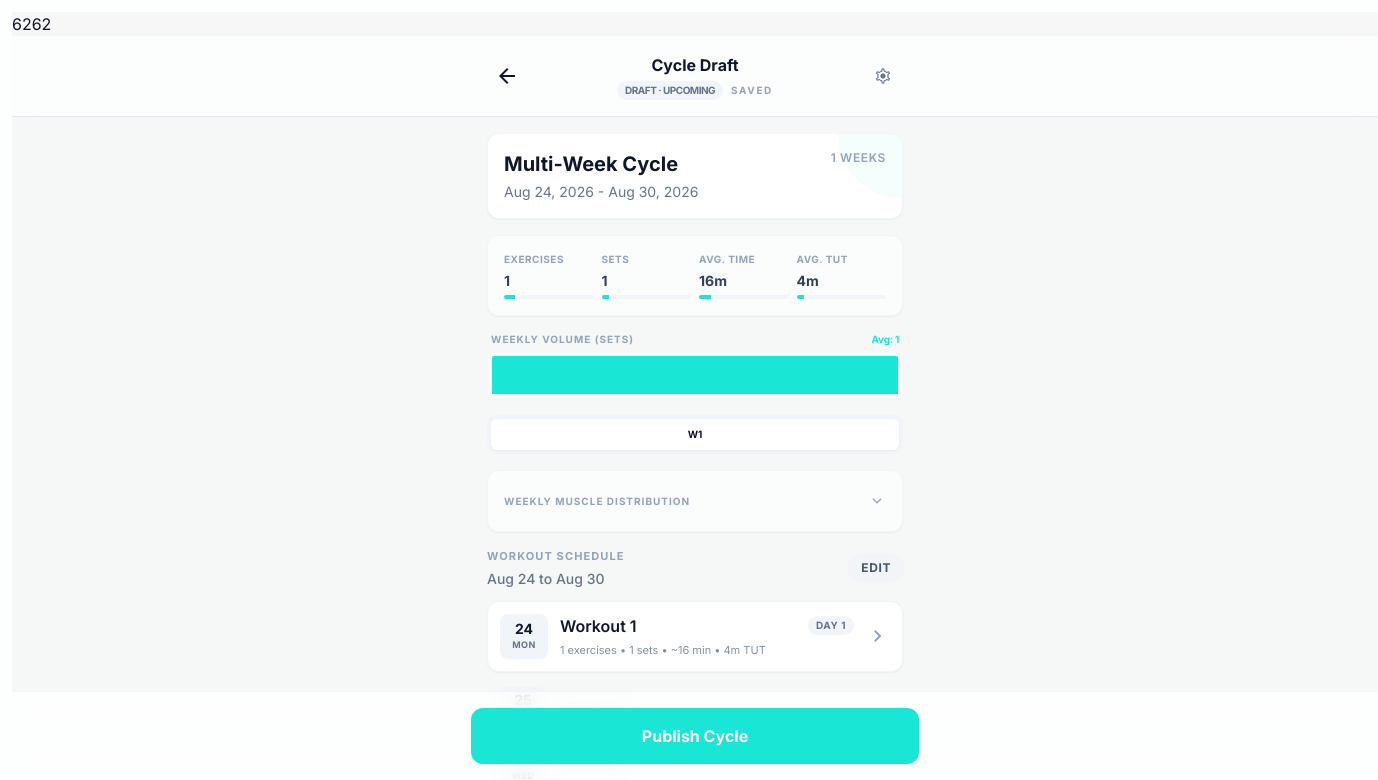
Test: ManualBuilderMulti workout terminal-action barrier › DRAFT_EXPIRED recovery during Publish preparation aborts the current Publish
Click the button "Publish Cycle": [695, 736] box [471,708,919,764]
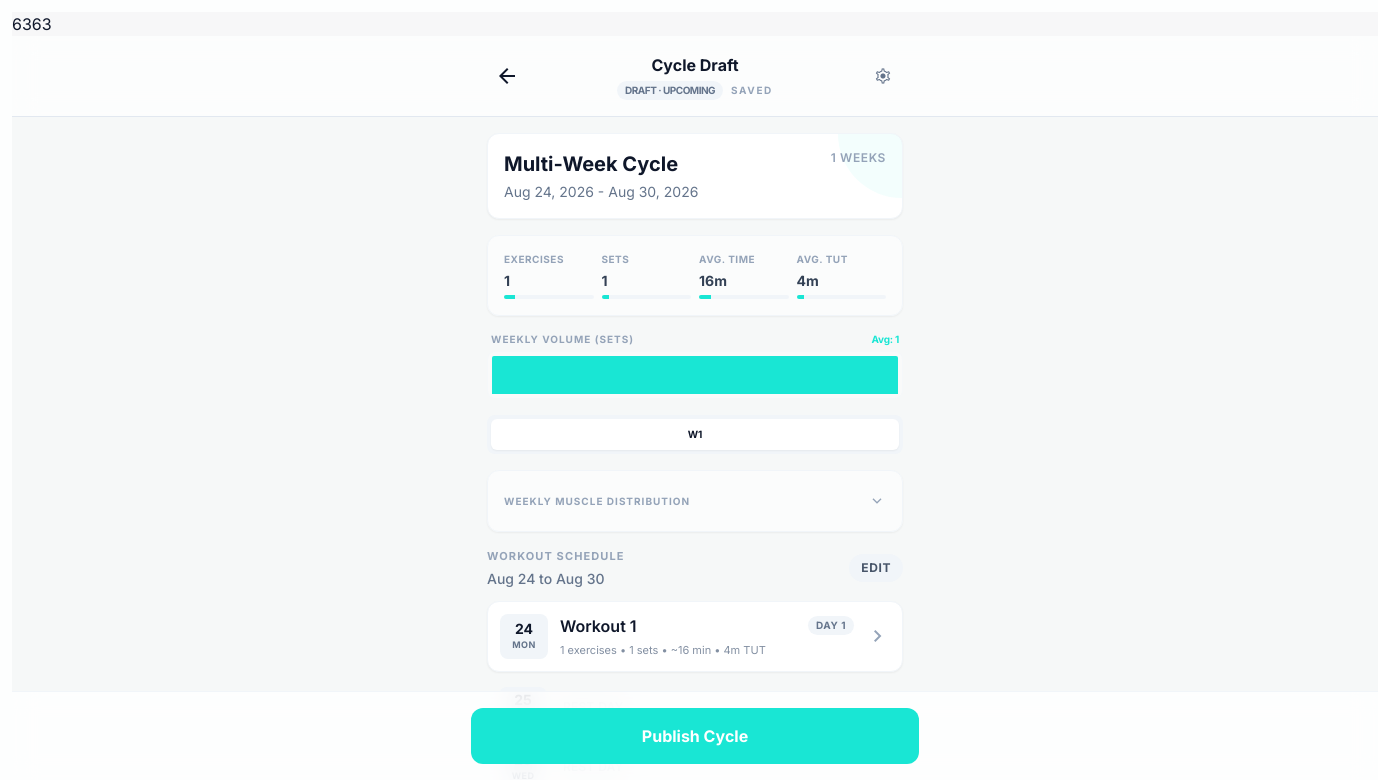
Now the text with test id "local-workout-reps" reads "63", box [12,14,32,34]
